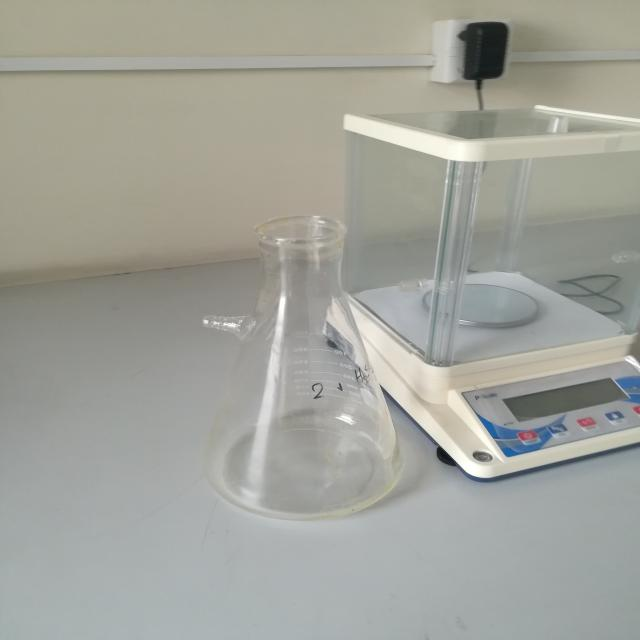Conical_Flask: (160, 189, 450, 552)
